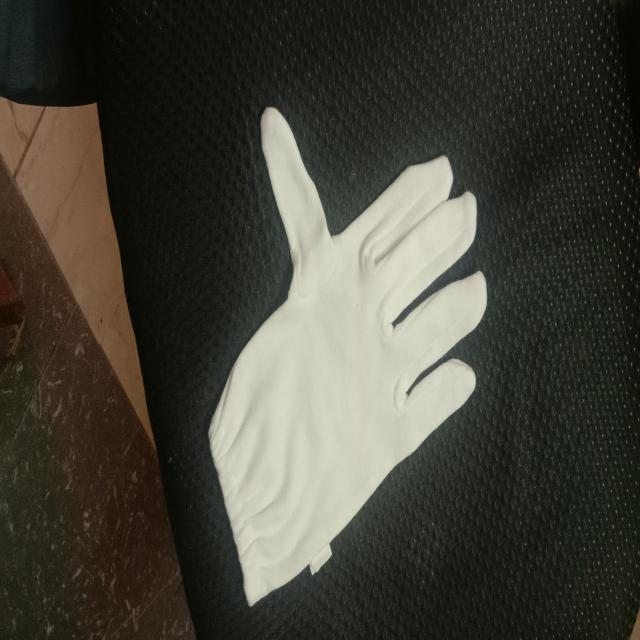gloved_hand: (206, 99, 492, 610)
